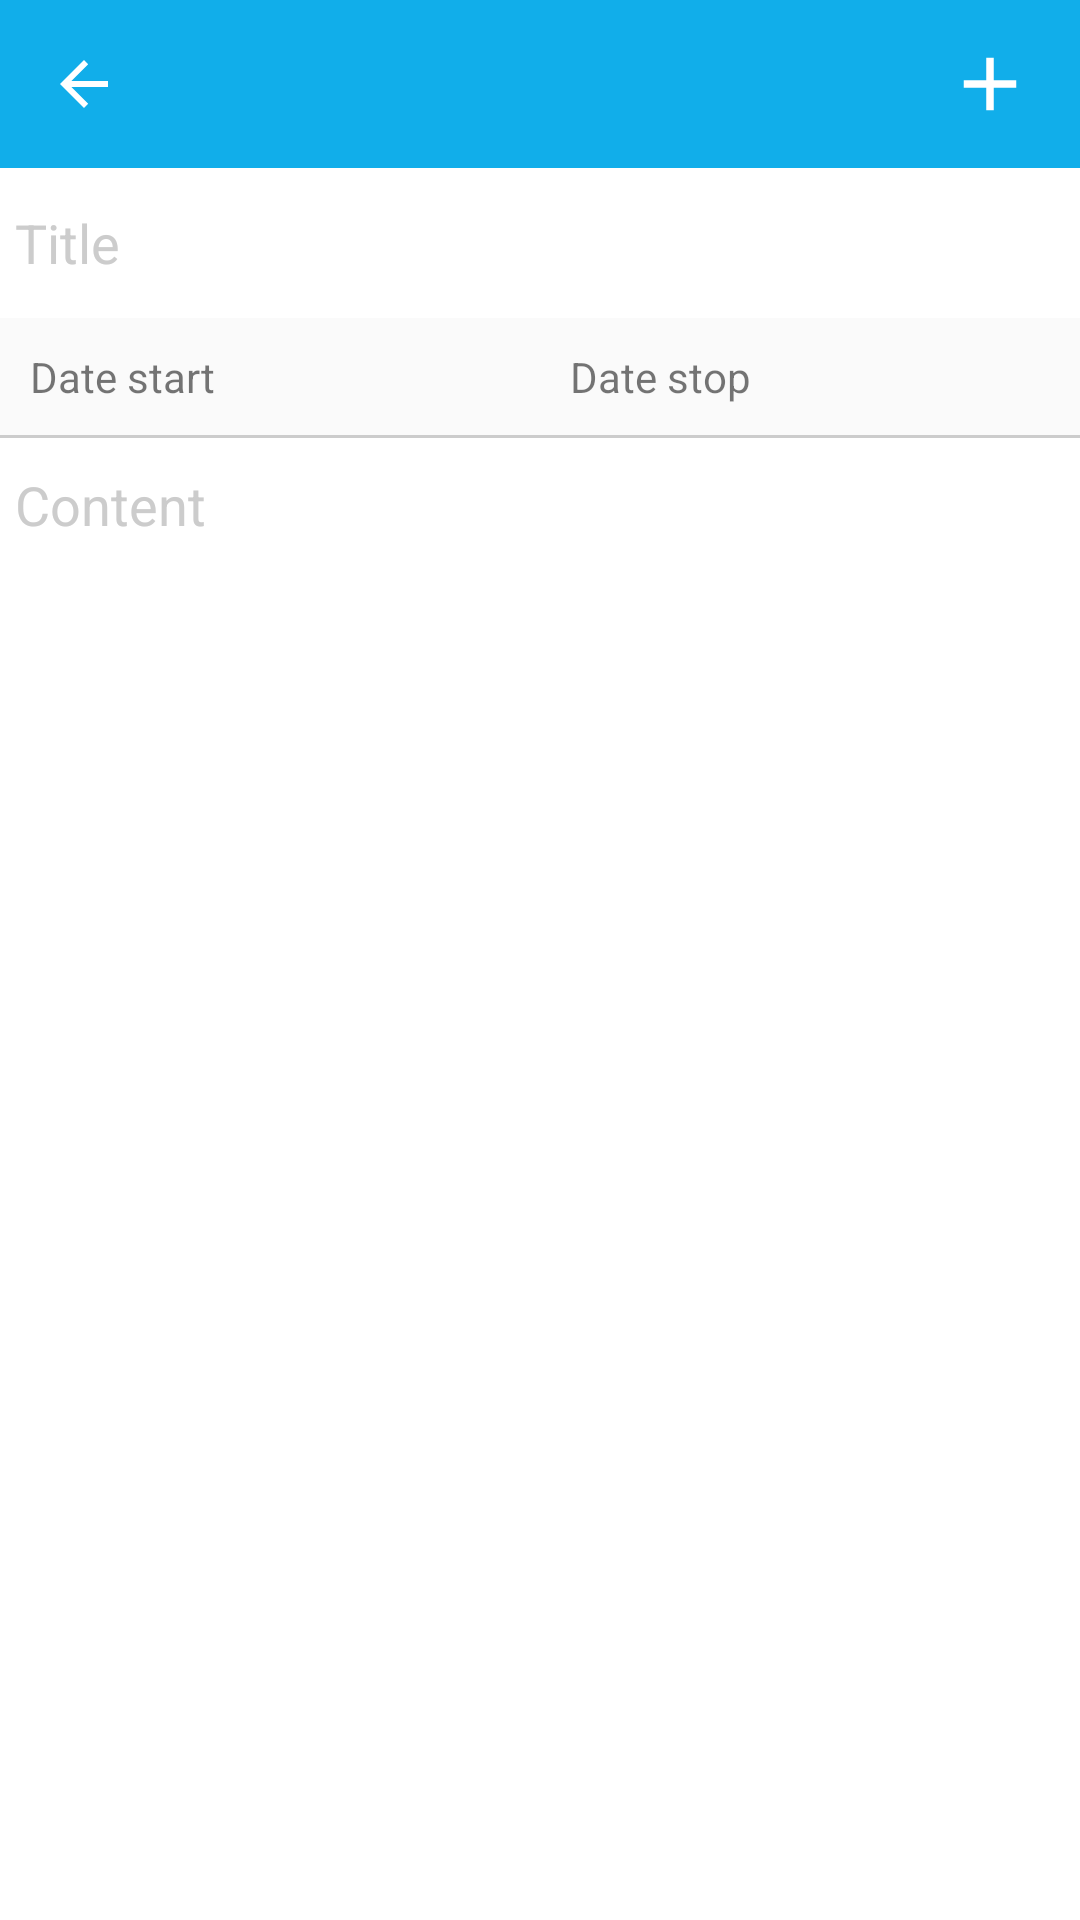

Screen size 1080*1920. Icon name, then its box in pixels as (x1, y1, x2, y2):
add: (963, 57, 1017, 111)
